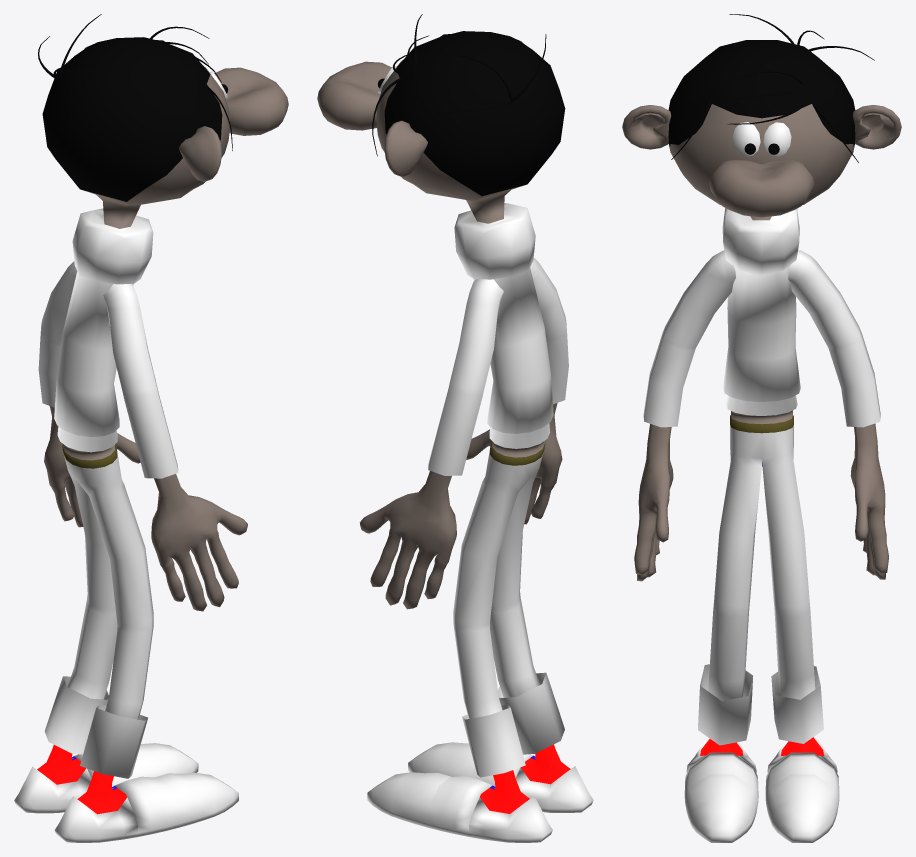
The model's file is spectator_white_medium.dae.
3 renders of one model, left to right at view 1: azimuth 30°, elevation 25°; view 2: azimuth 150°, elevation 25°; view 3: azimuth 270°, elevation 25°, orthographic.
Visible parts, largest first — view 1: Spectator; view 2: Spectator; view 3: Spectator.
Boxes of the visible parts, left/top/right/bottom form: Spectator: left=14, top=14, right=288, bottom=842; Spectator: left=317, top=14, right=593, bottom=842; Spectator: left=622, top=14, right=901, bottom=842.
Size of the model in its own units: 0.5277 by 0.5296 by 1.6.
